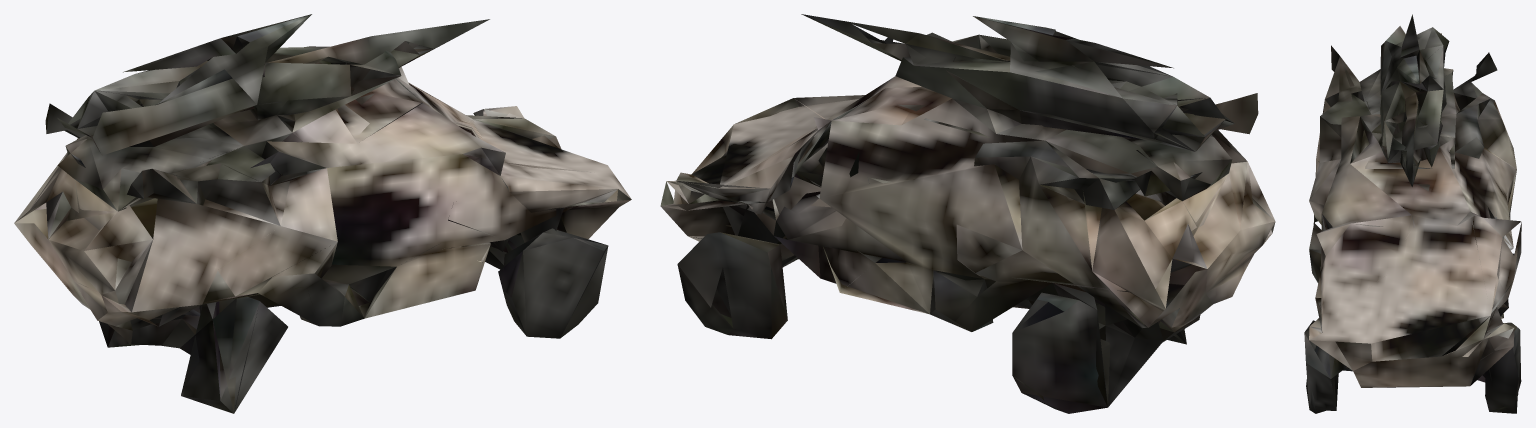
Rendered from grad_mlrs_1748547365_lod0m.glb.
3 views of the same model, side by side, from view 1: azimuth 30°, elevation 25°; view 2: azimuth 150°, elevation 25°; view 3: azimuth 270°, elevation 25° (orthographic). The views are drawn at different scales.
Bounding box in the file's own units: 7.94 × 4.71 × 3.59.
1 material, 1 textured.
